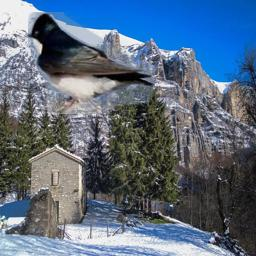Swallow: (28, 12, 155, 114)
